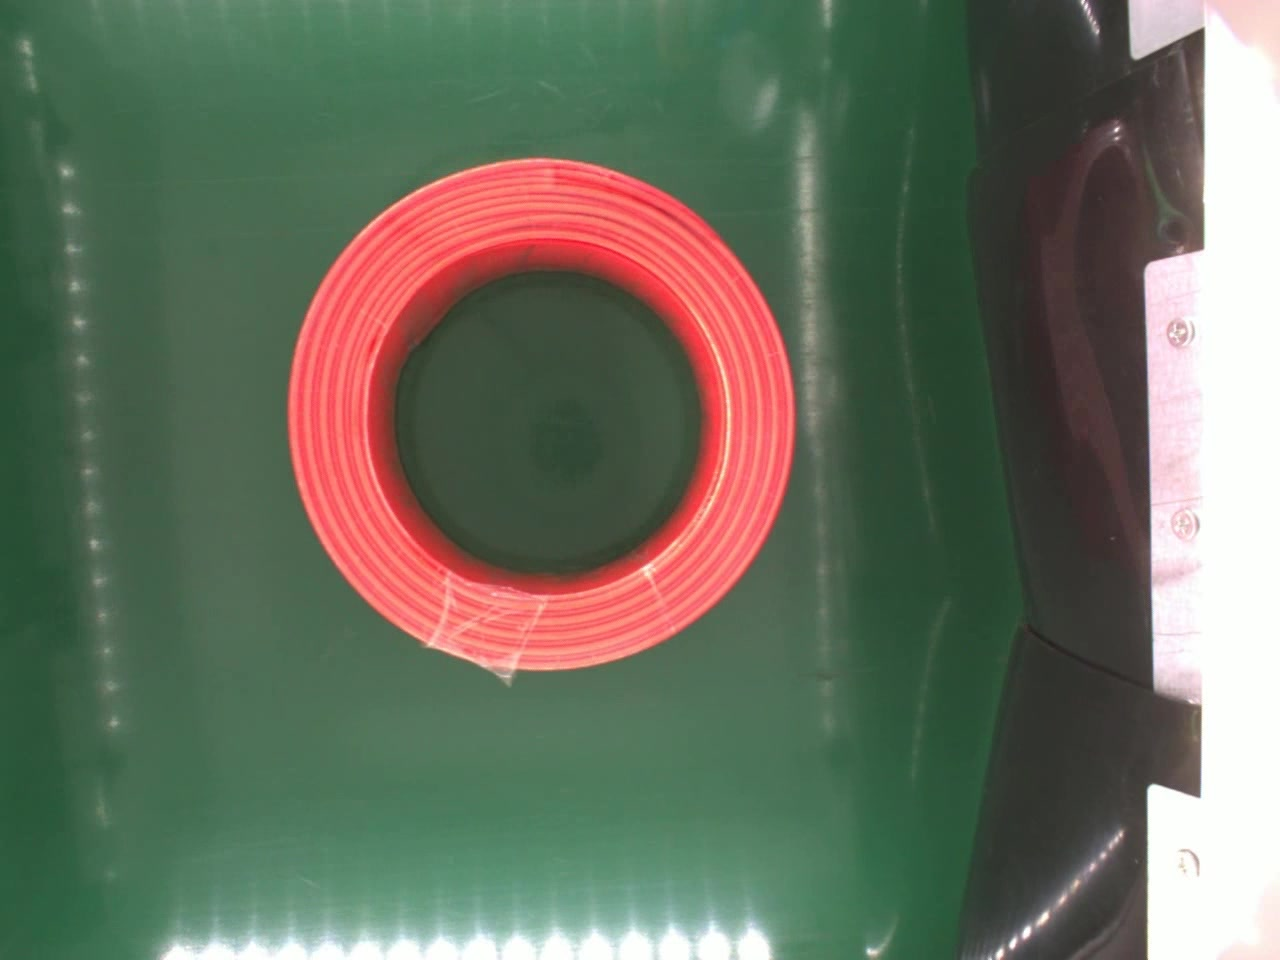red: (285, 154, 801, 671)
